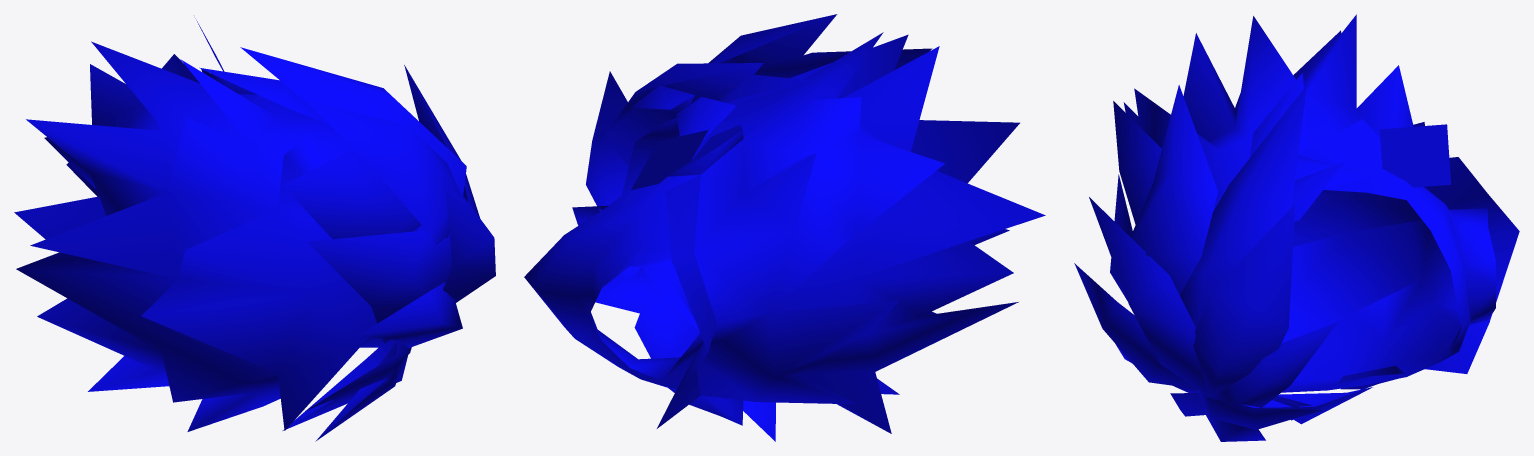
The picture shows the model from 3 angles, left to right: view 1: azimuth 30°, elevation 25°; view 2: azimuth 150°, elevation 25°; view 3: azimuth 270°, elevation 25°; orthographic projection. The views are drawn at different scales.
Visible parts, largest first — view 1: rg_head_001; view 2: rg_head_001; view 3: rg_head_001.
Part boxes in pixels (<box>): rg_head_001: <box>14,18,495,441</box>; rg_head_001: <box>524,14,1045,441</box>; rg_head_001: <box>1074,14,1519,441</box>.
Size of the model in its own units: 54.74 by 47.56 by 51.09.
